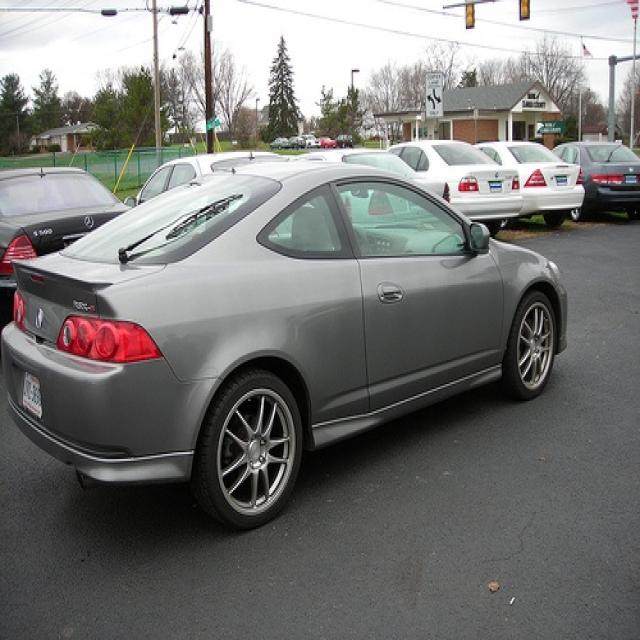car: (1, 158, 567, 530), (0, 160, 134, 291), (397, 144, 521, 238), (476, 140, 585, 229), (123, 150, 283, 203), (552, 140, 638, 222)
